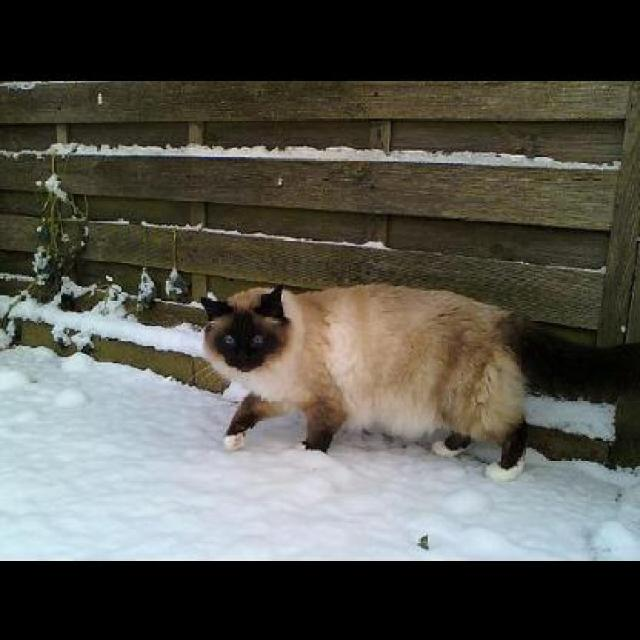unauthorized: (197, 278, 638, 482)
